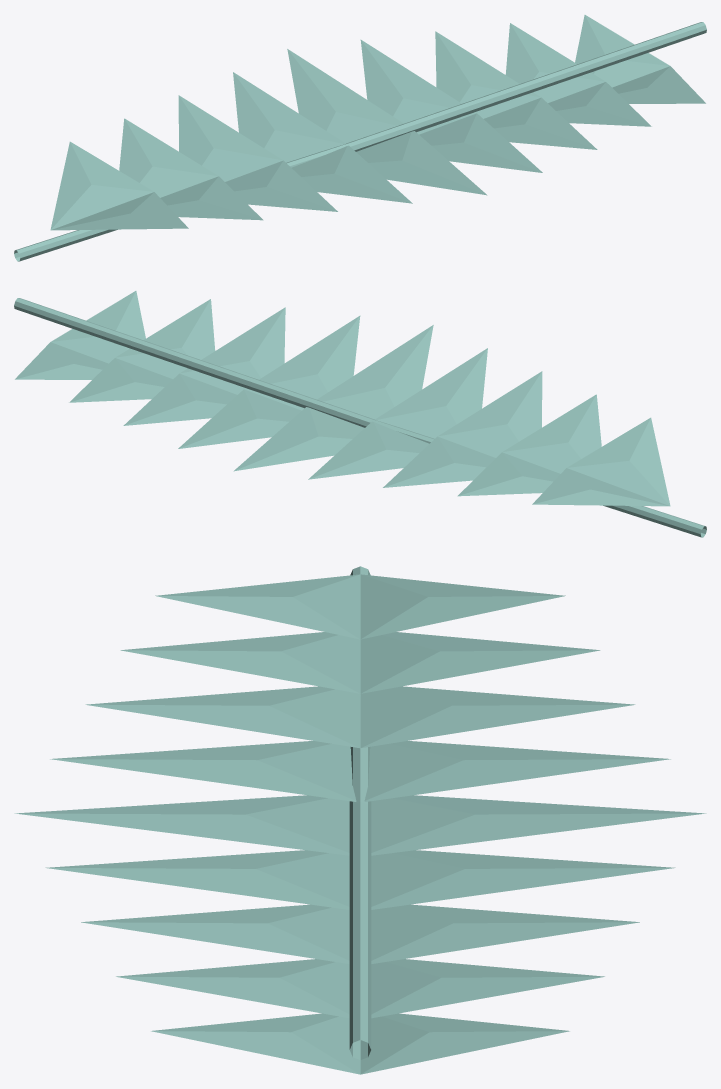
3 views of the same model, one above another, from view 1: azimuth 30°, elevation 25°; view 2: azimuth 150°, elevation 25°; view 3: azimuth 270°, elevation 25° (orthographic). The views are drawn at different scales.
Visible parts, largest first — view 1: Stem, Leaf.009, Leaf.007, Leaf.005, Leaf.001, Leaf.011, Leaf.003, Leaf.008, Leaf.013, Leaf.010, Leaf.006, Leaf.015 (+7 smaller); view 2: Stem, Leaf.008, Leaf.006, Leaf.004, Leaf, Leaf.010, Leaf.002, Leaf.009, Leaf.012, Leaf.011, Leaf.007, Leaf.014 (+7 smaller); view 3: Leaf.008, Leaf.009, Leaf.006, Leaf.007, Leaf.010, Leaf.011, Leaf.004, Leaf.005, Leaf.012, Leaf.013, Leaf.002, Leaf.003 (+7 smaller).
Part boxes in pixels (x1=…): Stem: x1=14, y1=22, x2=706, y2=261; Leaf.009: x1=287, y1=49, x2=403, y2=143; Leaf.007: x1=233, y1=72, x2=345, y2=162; Leaf.005: x1=178, y1=95, x2=282, y2=181; Leaf.001: x1=50, y1=141, x2=153, y2=230; Leaf.011: x1=360, y1=39, x2=476, y2=134; Leaf.003: x1=119, y1=118, x2=218, y2=197; Leaf.008: x1=356, y1=131, x2=487, y2=195; Leaf.013: x1=435, y1=31, x2=541, y2=118; Leaf.010: x1=419, y1=113, x2=542, y2=172; Leaf.006: x1=291, y1=145, x2=412, y2=203; Leaf.015: x1=505, y1=23, x2=605, y2=102; Stem: x1=14, y1=298, x2=706, y2=537; Leaf.008: x1=317, y1=325, x2=433, y2=419; Leaf.006: x1=375, y1=348, x2=487, y2=438; Leaf.004: x1=438, y1=371, x2=542, y2=457; Leaf: x1=567, y1=417, x2=670, y2=506; Leaf.010: x1=244, y1=315, x2=360, y2=410; Leaf.002: x1=502, y1=394, x2=601, y2=473; Leaf.009: x1=233, y1=407, x2=364, y2=471; Leaf.012: x1=179, y1=307, x2=285, y2=394; Leaf.011: x1=178, y1=389, x2=301, y2=448; Leaf.007: x1=308, y1=421, x2=429, y2=479; Leaf.014: x1=115, y1=299, x2=215, y2=378; Leaf.008: x1=14, y1=795, x2=349, y2=855; Leaf.009: x1=371, y1=795, x2=706, y2=855; Leaf.006: x1=50, y1=741, x2=356, y2=801; Leaf.007: x1=364, y1=741, x2=670, y2=801; Leaf.010: x1=45, y1=850, x2=349, y2=909; Leaf.011: x1=371, y1=850, x2=675, y2=909; Leaf.004: x1=85, y1=686, x2=360, y2=748; Leaf.005: x1=360, y1=686, x2=635, y2=747; Leaf.012: x1=81, y1=904, x2=349, y2=963; Leaf.013: x1=371, y1=904, x2=639, y2=963; Leaf.002: x1=120, y1=632, x2=360, y2=693; Leaf.003: x1=360, y1=632, x2=600, y2=693.
Bounding box in the file's own units: 165 × 16.59 × 83.45.
